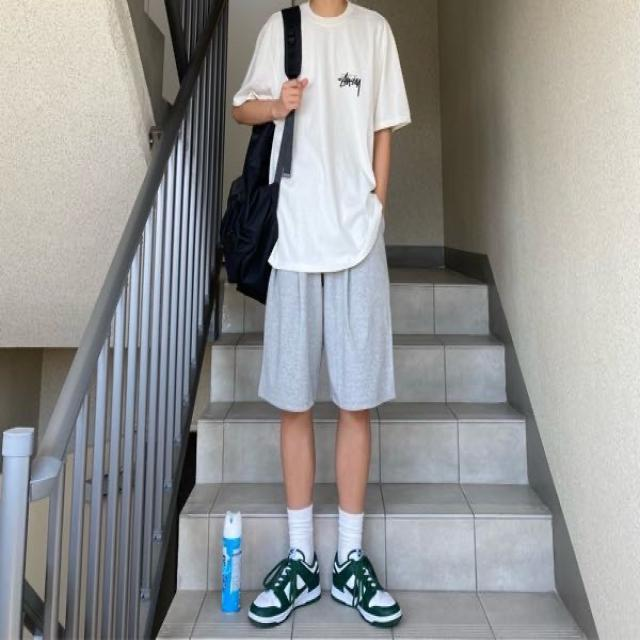shortpants: (257, 220, 395, 414)
shortsleeve: (231, 0, 411, 274)
